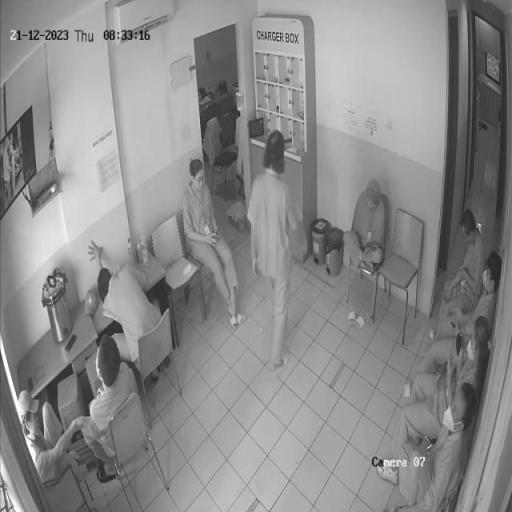person: (380, 315, 492, 484), (404, 251, 503, 397), (248, 131, 302, 372), (184, 159, 247, 330), (71, 335, 138, 480), (401, 385, 476, 512), (95, 259, 165, 366), (432, 209, 488, 342), (19, 392, 94, 487), (344, 181, 388, 276)
